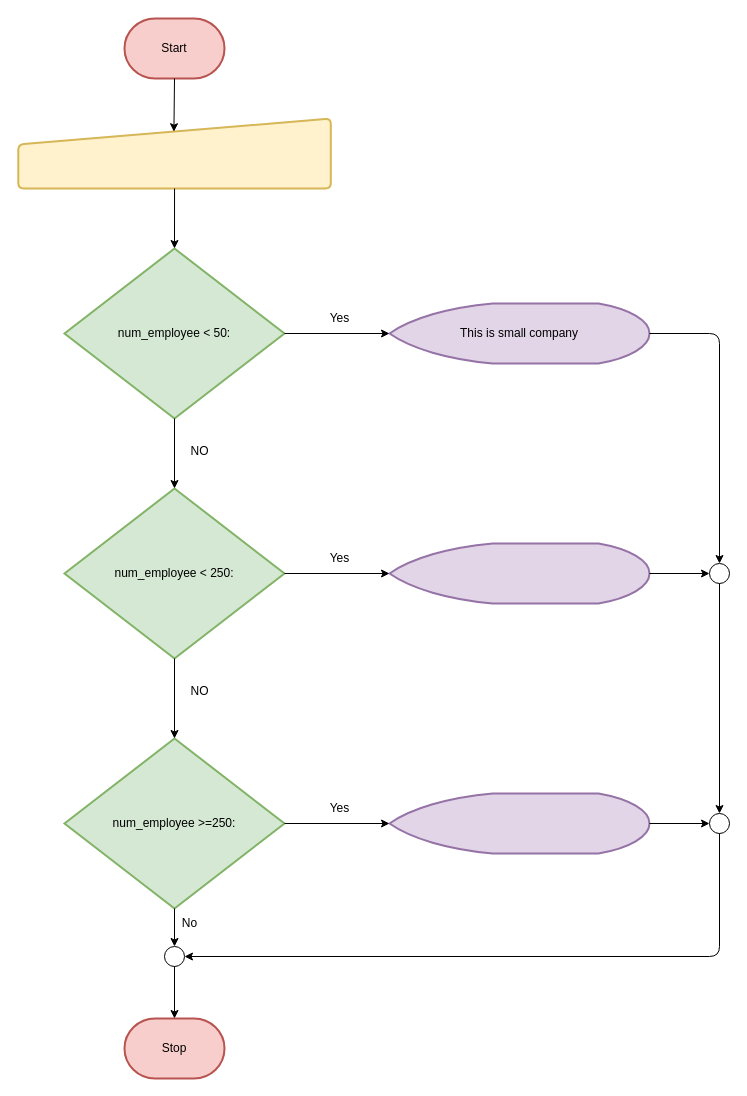
The diagram is 747 pixels wide and 1096 high, and some of its shapes have lost their labels. The box of each missing label's shape, as (x1, y1, x2, y2) in pixels:
Enter number employee :: (17, 117, 331, 189)
This is big company: (388, 792, 650, 854)
This is medium company: (388, 542, 650, 604)
